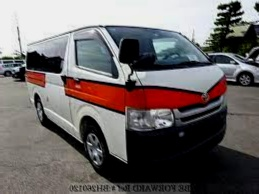van: (23, 23, 227, 169)
